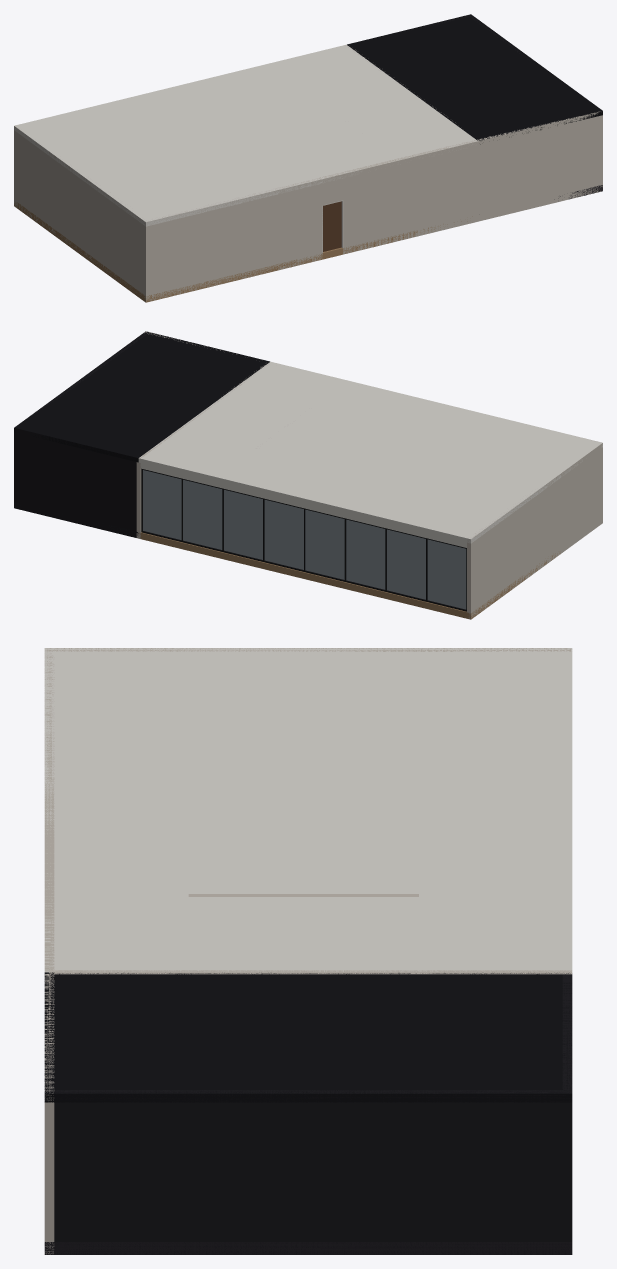
File: home.glb
3 views of the same model, one above another, from view 1: azimuth 30°, elevation 25°; view 2: azimuth 150°, elevation 25°; view 3: azimuth 270°, elevation 25° (orthographic). The views are drawn at different scales.
Visible parts, largest first — view 1: home; view 2: home; view 3: home.
Boxes of the visible parts, bbox=[...] form: home: bbox=[14, 14, 602, 302]; home: bbox=[14, 331, 602, 619]; home: bbox=[44, 648, 572, 1254].
Bounding box in the file's own units: 22 × 3.7 × 11.
